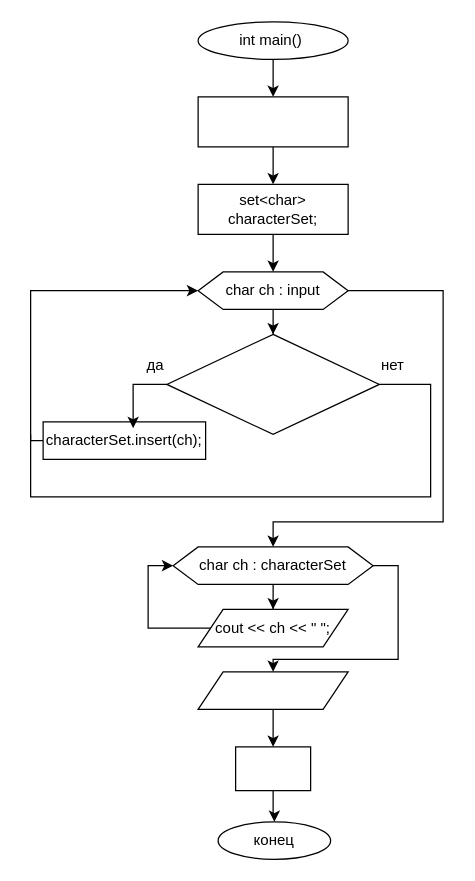
This 475x881 diagram has some shape labels left out. The shapes that lost their labels are listed below. From the top down, each one's centre as x and y in pixels, then its label:
At point (272, 121): "string input; getline(cin, input);".
At point (272, 383): "(ch >= 'A' && ch <= 'Z') || (ch >= '0' && ch <= '5')".
At point (272, 690): "cout << endl;".
At point (272, 768): "return 0;".
